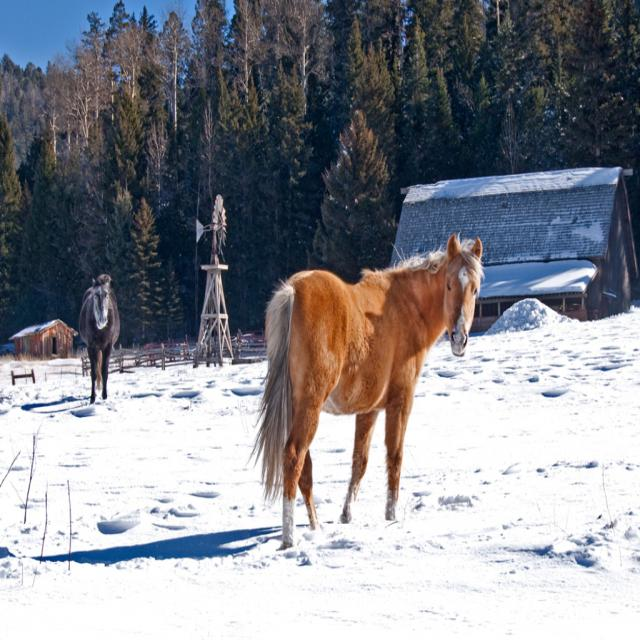Horse: (247, 228, 485, 552), (80, 275, 118, 405)
